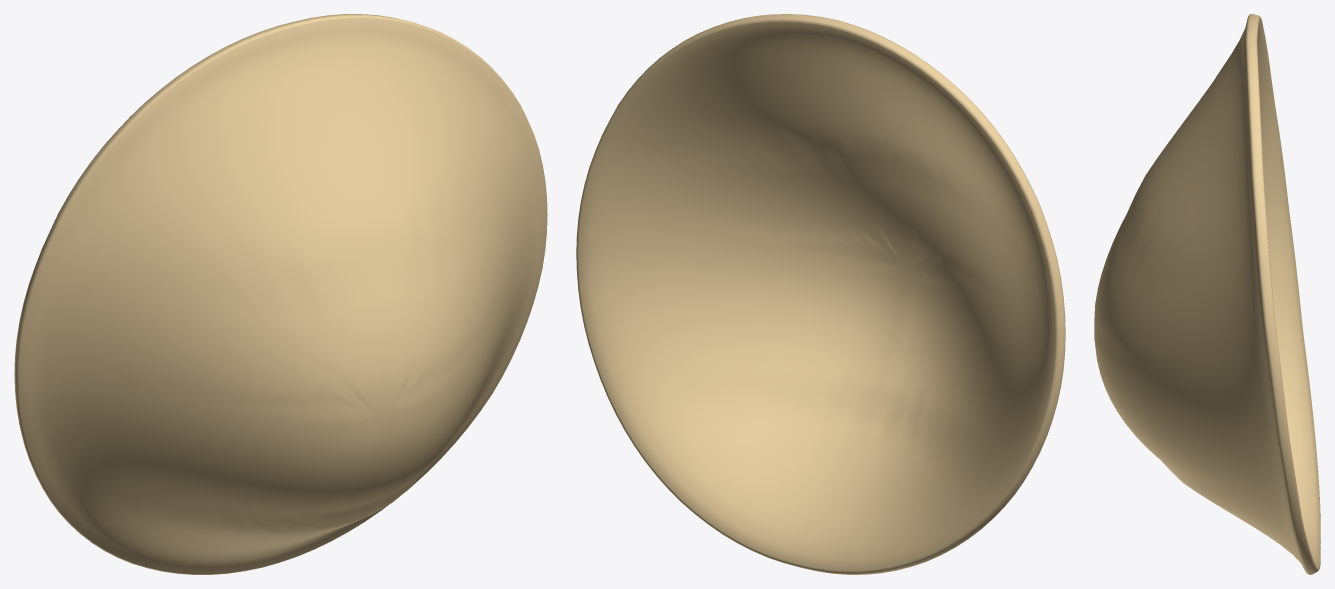
Rendered from Feminine-nose-rounded.glb.
The picture shows the model from 3 angles, left to right: view 1: azimuth 30°, elevation 25°; view 2: azimuth 150°, elevation 25°; view 3: azimuth 270°, elevation 25°; orthographic projection. The views are drawn at different scales.
Visible parts, largest first — view 1: Face / rounded nose; view 2: Face / rounded nose; view 3: Face / rounded nose.
Part boxes in pixels (<box>): Face / rounded nose: <box>14,14,547,574</box>; Face / rounded nose: <box>576,14,1065,574</box>; Face / rounded nose: <box>1094,14,1320,574</box>.
Size of the model in its own units: 0.068 by 0.07 by 0.0281.
